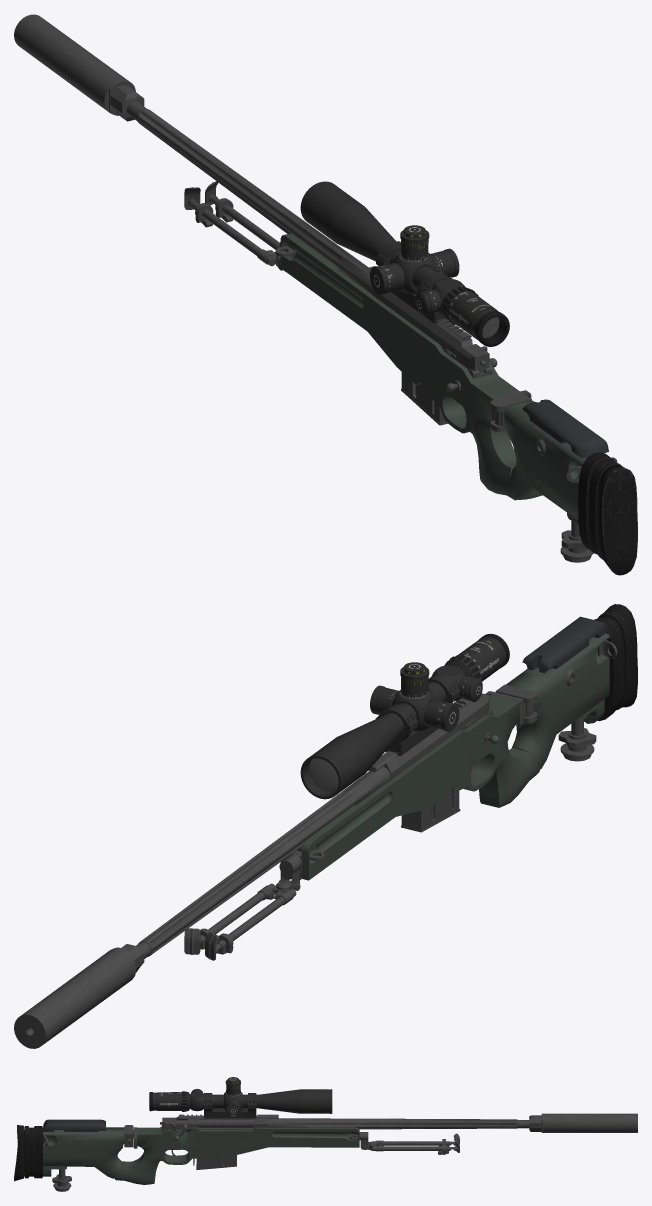
The model's file is awp.glb.
The picture shows the model from 3 angles, top to bottom: view 1: azimuth 30°, elevation 25°; view 2: azimuth 150°, elevation 25°; view 3: azimuth 270°, elevation 25°; orthographic projection. The views are drawn at different scales.
Parts seen in each view (by area): view 1: body, mag; view 2: body, mag; view 3: body, mag.
Boxes of the visible parts, left/top/right/bottom form: body: left=14, top=14, right=637, bottom=575; mag: left=401, top=372, right=447, bottom=425; body: left=14, top=604, right=637, bottom=1048; mag: left=401, top=786, right=460, bottom=832; body: left=14, top=1077, right=637, bottom=1191; mag: left=196, top=1153, right=236, bottom=1169.
Size of the model in its own units: 0.1162 by 0.3096 by 1.58.
1 material, 1 textured.
